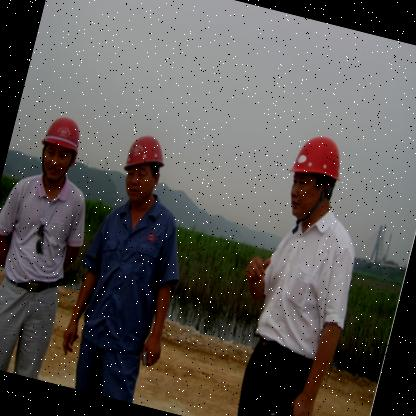capacete: (276, 126, 350, 230), (113, 130, 171, 214), (32, 112, 86, 188)
sem_colete_refletivo: (232, 198, 374, 374), (62, 184, 198, 358), (0, 165, 100, 303)
